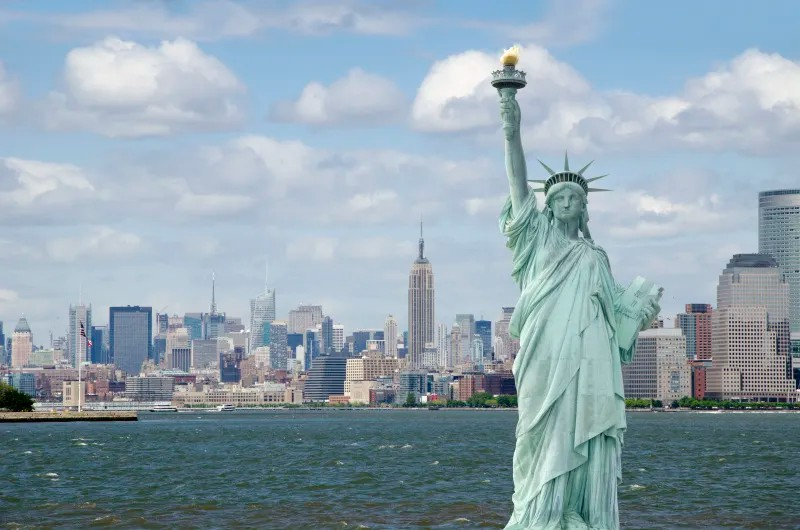SL: (490, 47, 666, 530)
